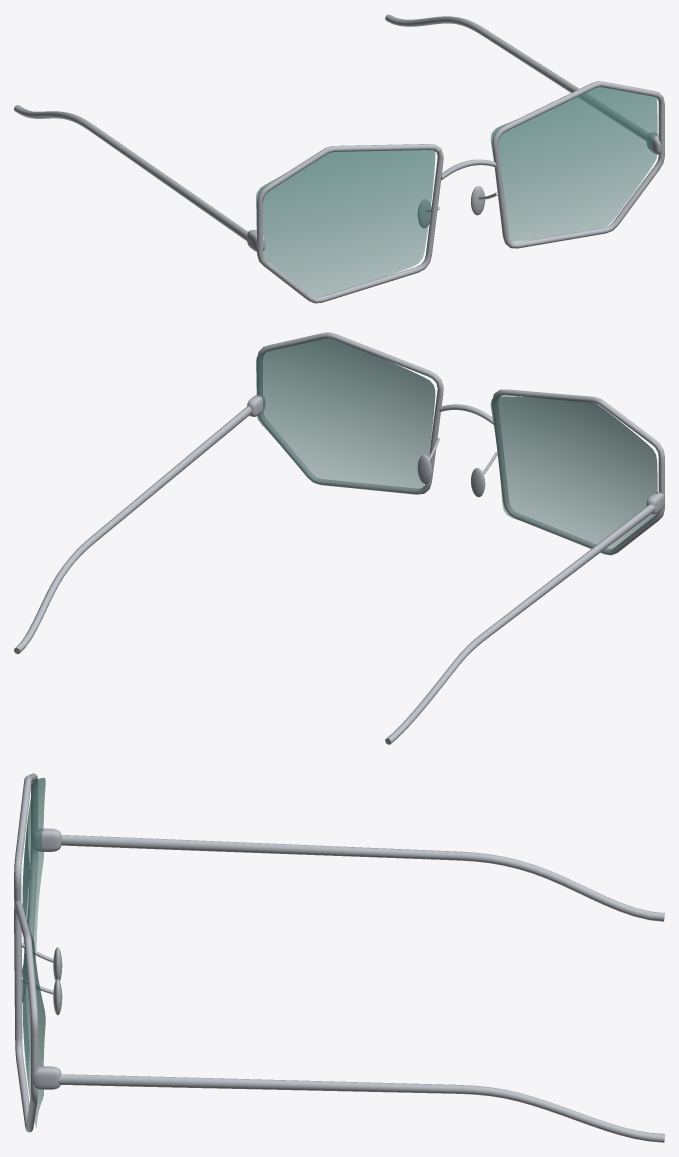
3 views of the same model, one above another, from view 1: azimuth 30°, elevation 25°; view 2: azimuth 150°, elevation 25°; view 3: azimuth 270°, elevation 25° (orthographic). The views are drawn at different scales.
Visible parts, largest first — view 1: lenses, frame; view 2: lenses, frame; view 3: frame, lenses.
Part boxes in pixels (x1=…): lenses: x1=256, y1=87, x2=657, y2=296; frame: x1=14, y1=14, x2=664, y2=303; lenses: x1=256, y1=337, x2=657, y2=553; frame: x1=14, y1=332, x2=664, y2=744; frame: x1=14, y1=773, x2=664, y2=1142; lenses: x1=22, y1=777, x2=45, y2=1127.
Bounding box in the file's own units: 0.1293 × 0.0464 × 0.1459.
